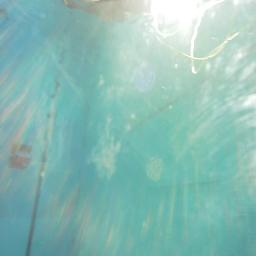Full: (10, 153, 30, 169)
